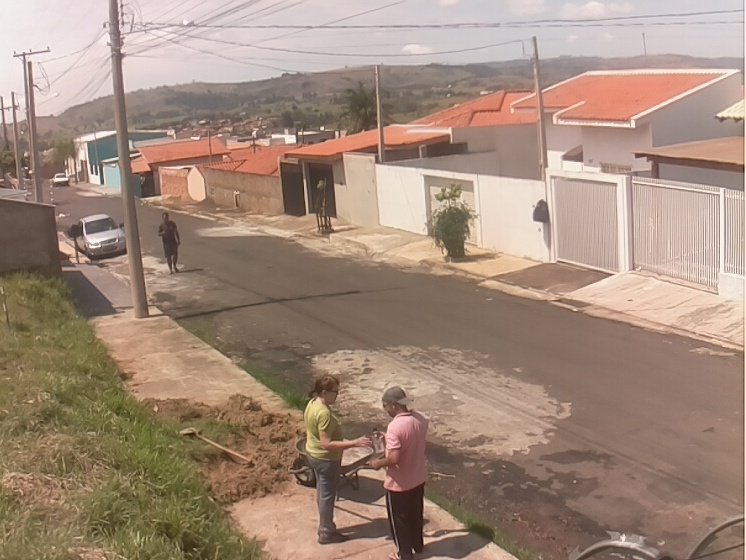person: (303, 374, 371, 545), (368, 385, 431, 560), (157, 211, 181, 277)
